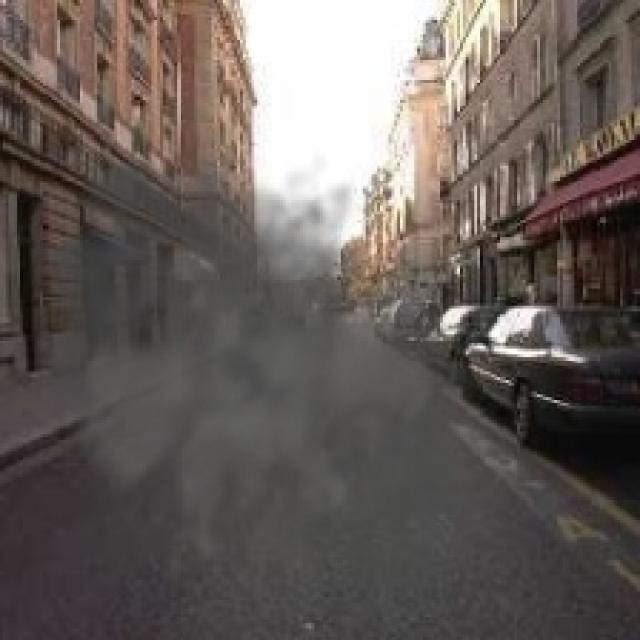Smoke: (0, 120, 520, 637)
